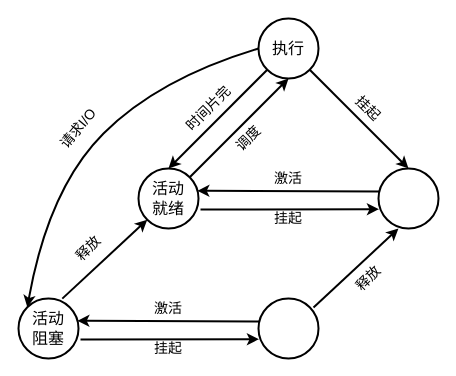
This 456x376 diagram has some shape labels left out. The centre of each missing label's shape, as x and y in pixels:
"静止 就绪" goes at (x=408, y=198).
"静止 阻塞" goes at (x=288, y=328).
